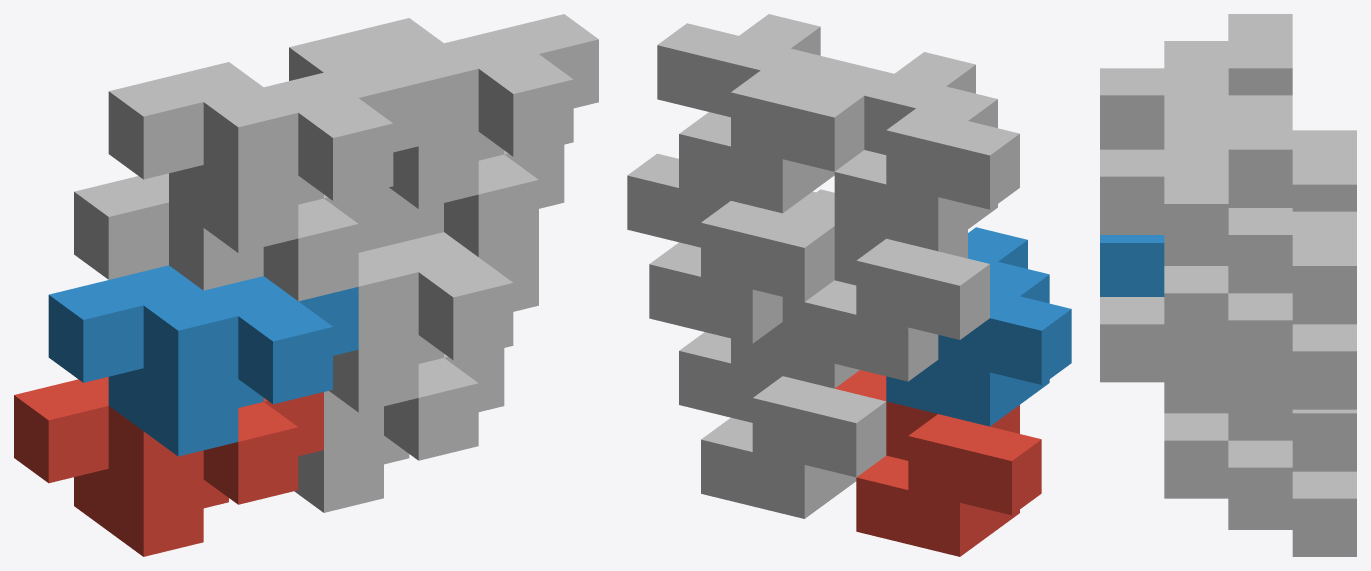
File: tiling.obj
3 views of the same model, side by side, from view 1: azimuth 30°, elevation 25°; view 2: azimuth 150°, elevation 25°; view 3: azimuth 270°, elevation 25° (orthographic). The views are drawn at different scales.
Visible parts, largest first — view 1: copy_1_domain_4, copy_1_domain_2, copy_1_domain_8, copy_1_domain_1, copy_1_domain_6, copy_1_domain_3, copy_1_domain_5, copy_1_domain_7; view 2: copy_1_domain_8, copy_1_domain_4, copy_1_domain_5, copy_1_domain_7, copy_1_domain_1, copy_1_domain_3, copy_1_domain_2, copy_1_domain_6; view 3: copy_1_domain_8, copy_1_domain_7, copy_1_domain_5, copy_1_domain_4, copy_1_domain_6, copy_1_domain_3, copy_1_domain_2.
Part boxes in pixels (x1,y1,x2,y2): copy_1_domain_4: (108,58,418,252); copy_1_domain_2: (48,265,358,456); copy_1_domain_8: (289,14,598,208); copy_1_domain_1: (14,377,323,556); copy_1_domain_6: (329,232,538,412); copy_1_domain_3: (74,173,383,301); copy_1_domain_5: (294,348,504,512); copy_1_domain_7: (384,145,564,257); copy_1_domain_8: (657,14,864,213); copy_1_domain_4: (813,52,1019,251); copy_1_domain_5: (679,332,886,518); copy_1_domain_7: (627,153,834,343); copy_1_domain_1: (835,370,1041,556); copy_1_domain_3: (783,191,989,381); copy_1_domain_2: (886,227,1071,426); copy_1_domain_6: (731,189,859,388); copy_1_domain_8: (1100,95,1292,293); copy_1_domain_7: (1164,211,1356,409); copy_1_domain_5: (1164,409,1356,556); copy_1_domain_4: (1100,14,1292,149); copy_1_domain_6: (1100,297,1292,440); copy_1_domain_3: (1292,130,1356,211); copy_1_domain_2: (1100,235,1164,296).
Size of the model in its own units: 8 by 7 by 4.
